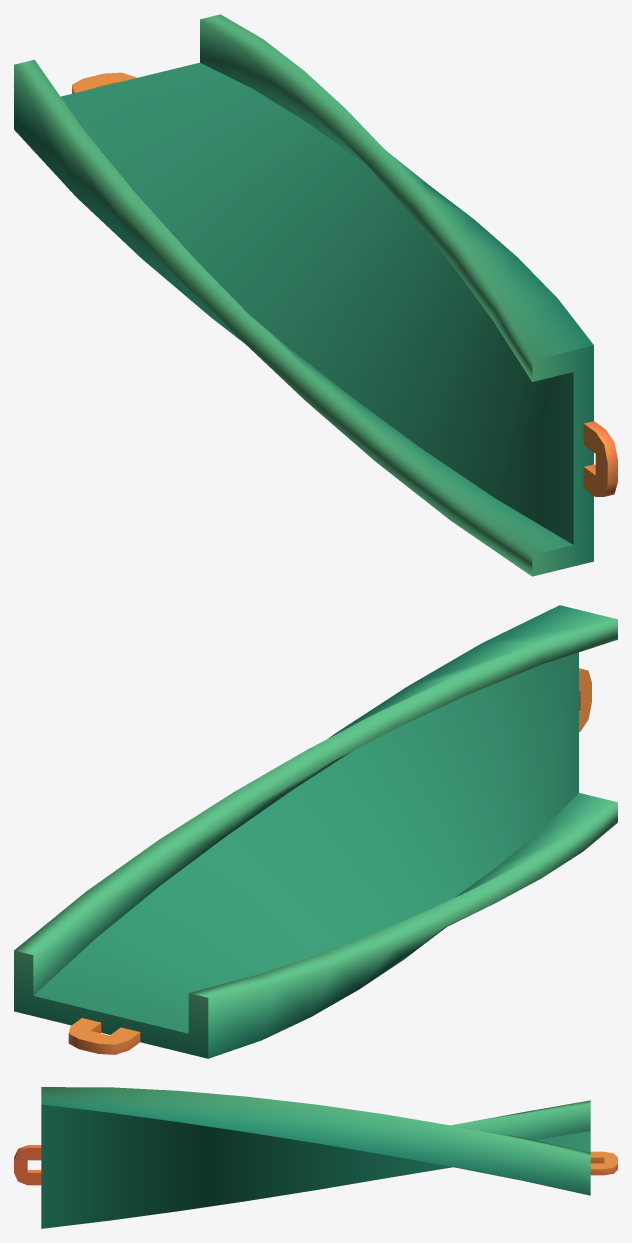
File: track-narrow-straight-skew-right-side.fbx
3 renders of one model, top to bottom at view 1: azimuth 30°, elevation 25°; view 2: azimuth 150°, elevation 25°; view 3: azimuth 270°, elevation 25°, orthographic. The views are drawn at different scales.
Parts seen in each view (by area): view 1: track-narrow-straight-skew-right-side; view 2: track-narrow-straight-skew-right-side; view 3: track-narrow-straight-skew-right-side.
Boxes of the visible parts, x1,y1,x2,y2 form: track-narrow-straight-skew-right-side: [14, 14, 617, 576]; track-narrow-straight-skew-right-side: [14, 605, 617, 1058]; track-narrow-straight-skew-right-side: [14, 1087, 617, 1228].
Bounding box in the file's own units: 108 × 108 × 440.
